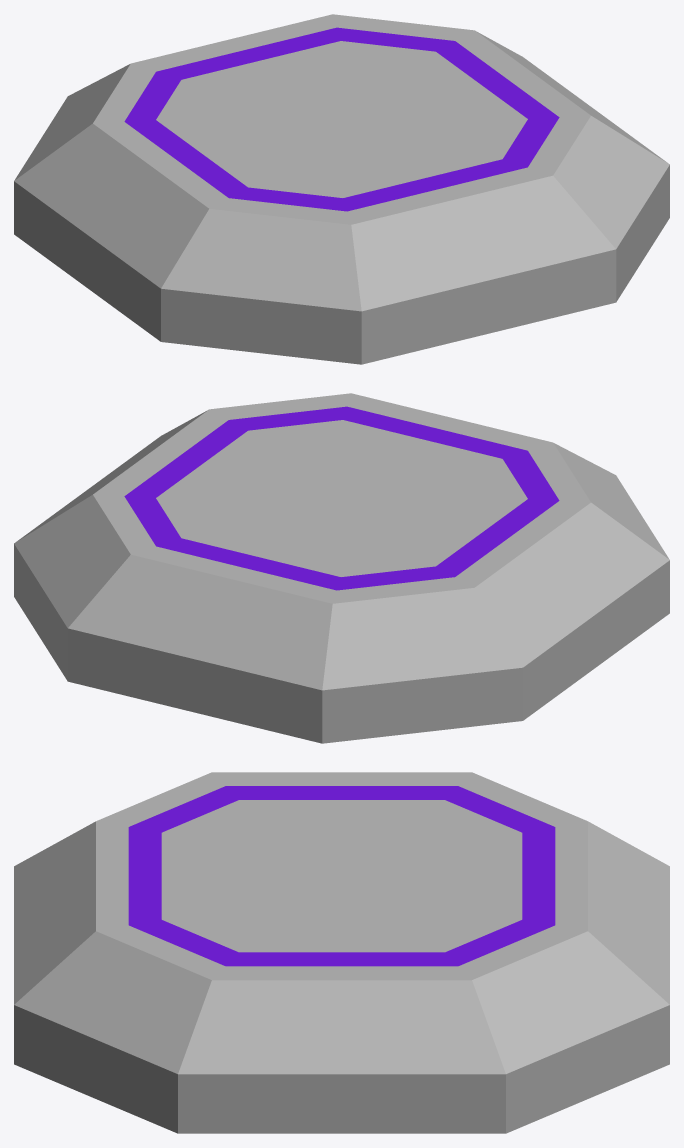
Rendered from Golem Tower.fbx.
3 views of the same model, one above another, from view 1: azimuth 30°, elevation 25°; view 2: azimuth 150°, elevation 25°; view 3: azimuth 270°, elevation 25° (orthographic). The views are drawn at different scales.
Parts seen in each view (by area): view 1: Torre Wizzard.016; view 2: Torre Wizzard.016; view 3: Torre Wizzard.016.
Part boxes in pixels (x1,y1,x2,y2): Torre Wizzard.016: [14, 14, 669, 364]; Torre Wizzard.016: [14, 393, 669, 743]; Torre Wizzard.016: [14, 772, 669, 1133].
Bounding box in the file's own units: 15 × 3 × 15.
